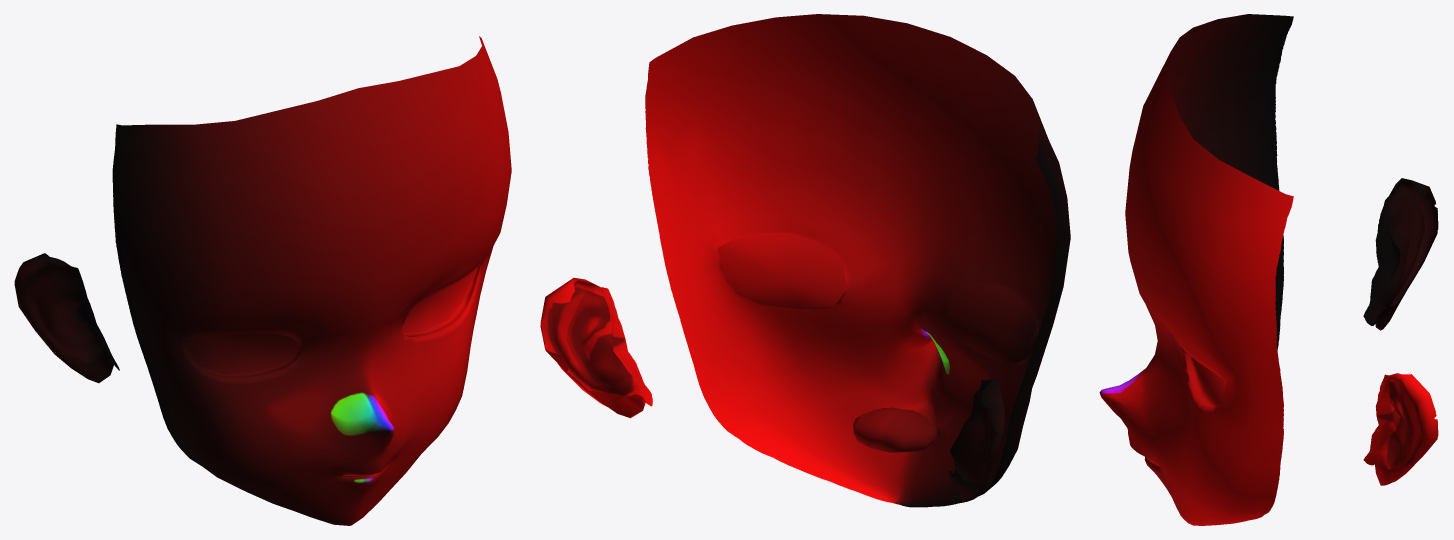
Rendered from facetest1.fbx.
3 renders of one model, left to right at view 1: azimuth 30°, elevation 25°; view 2: azimuth 150°, elevation 25°; view 3: azimuth 270°, elevation 25°, orthographic. The views are drawn at different scales.
Parts seen in each view (by area): view 1: face; view 2: face; view 3: face.
Boxes of the visible parts, <box> form: face: <box>14,36,511,525</box>; face: <box>540,14,1070,507</box>; face: <box>1099,14,1438,525</box>.
Size of the model in its own units: 15.8 by 15.53 by 10.58.
